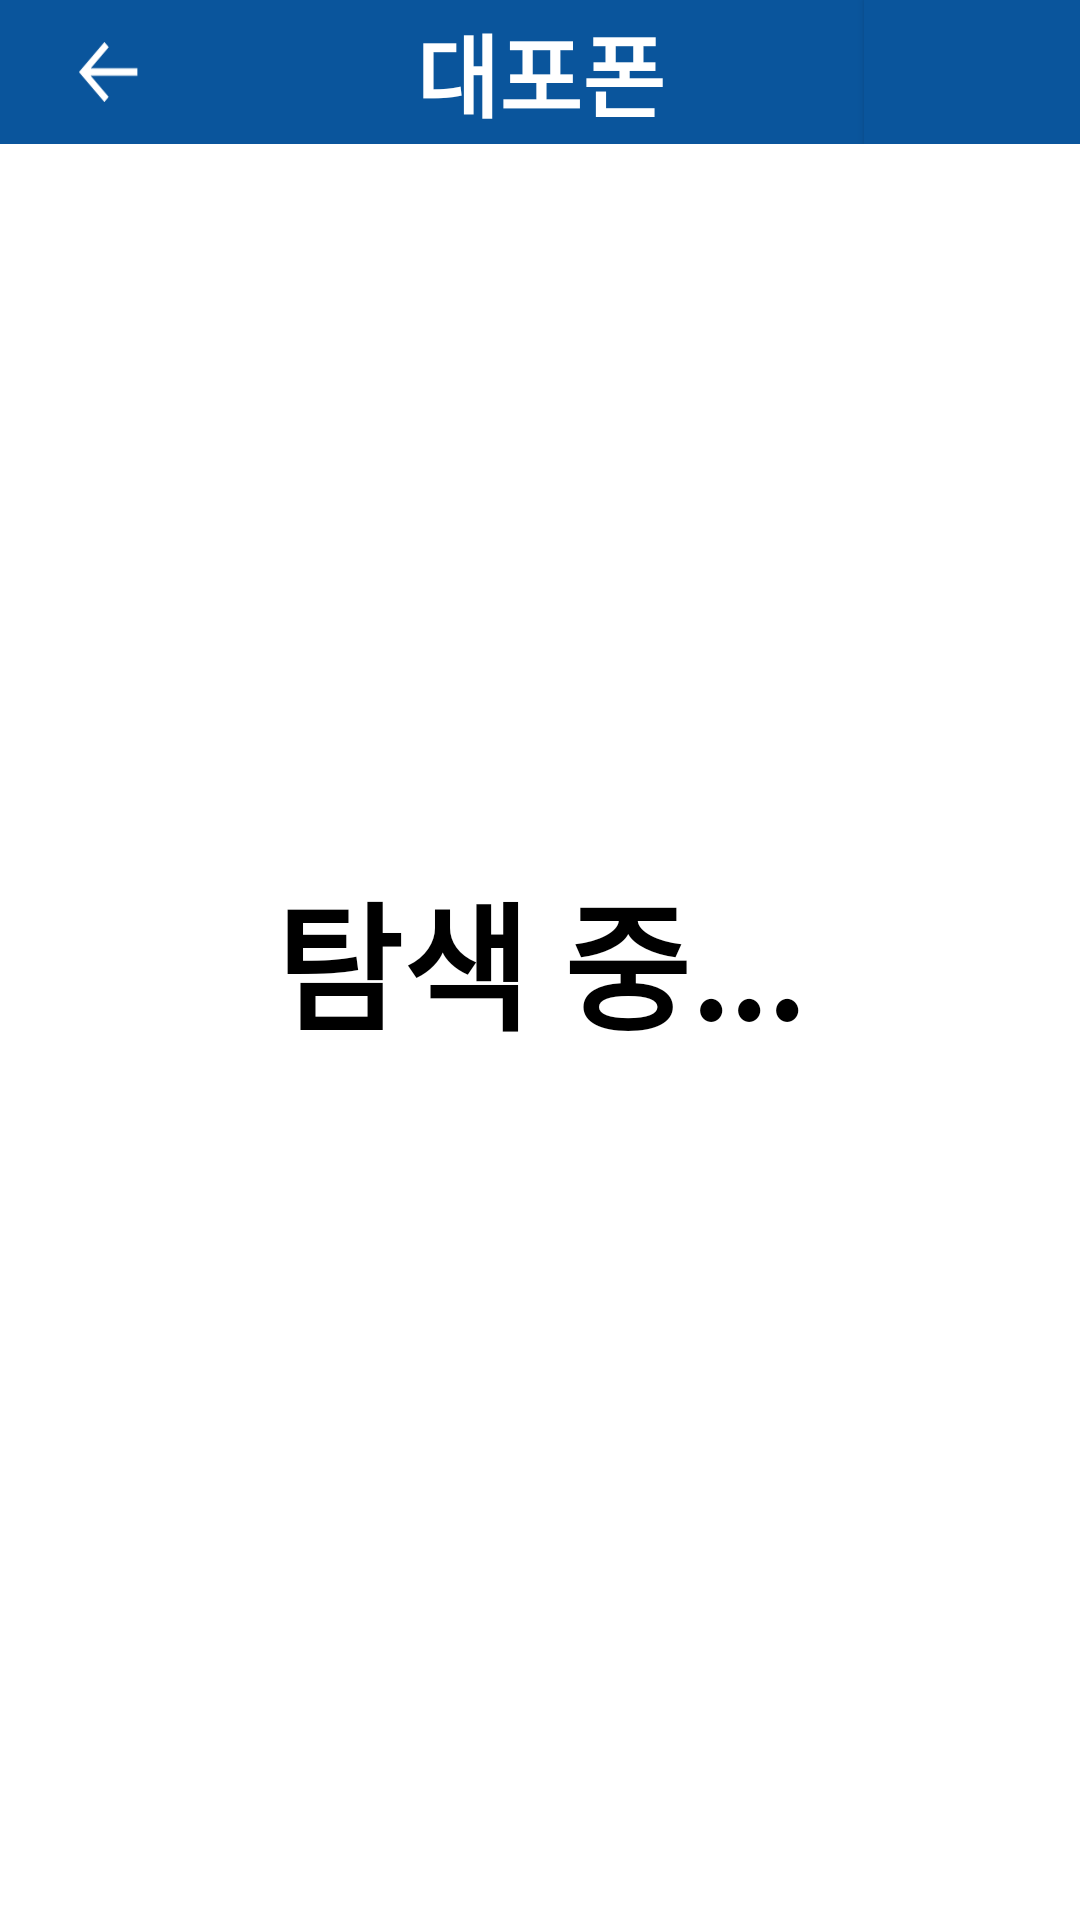

Where to tap for icons on this 1080×1920 app screen, as (x,y):
back arrow resize: (108,72)
